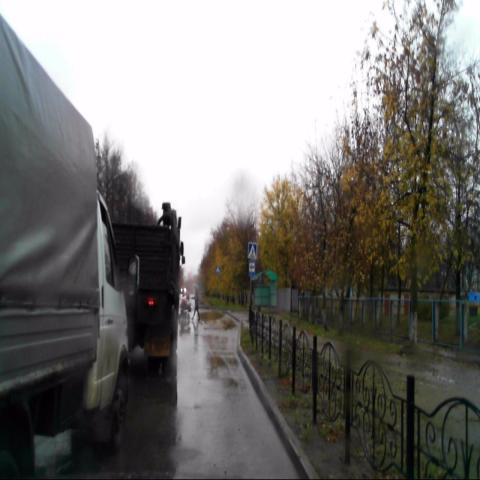5_16: (248, 258, 255, 276)
5_19_1: (247, 240, 258, 261)
